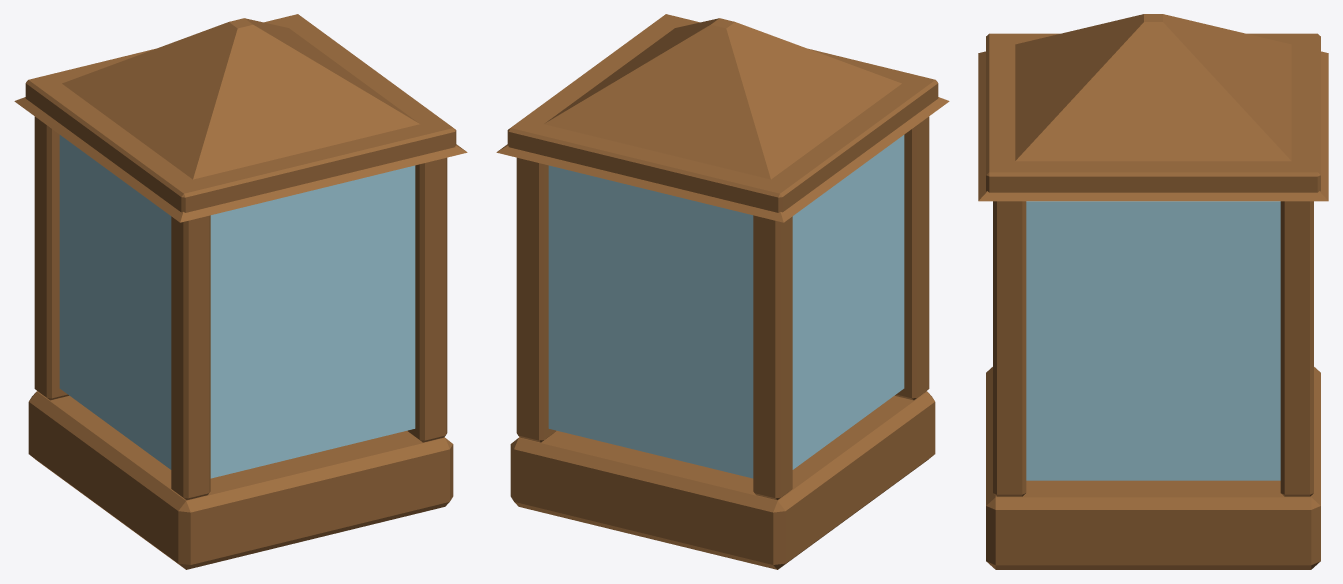
The model's file is Prop_WZ_EggIncubator.glb.
3 views of the same model, side by side, from view 1: azimuth 30°, elevation 25°; view 2: azimuth 150°, elevation 25°; view 3: azimuth 270°, elevation 25° (orthographic). The views are drawn at different scales.
Visible parts, largest first — view 1: Prop_WZ_EggIncubator; view 2: Prop_WZ_EggIncubator; view 3: Prop_WZ_EggIncubator.
Boxes of the visible parts, x1,y1,x2,y2 form: Prop_WZ_EggIncubator: (14, 14, 467, 569); Prop_WZ_EggIncubator: (496, 14, 949, 569); Prop_WZ_EggIncubator: (978, 14, 1328, 569).
Size of what is drawn, in the model's own units: 0.5233 by 0.8 by 0.5233.
